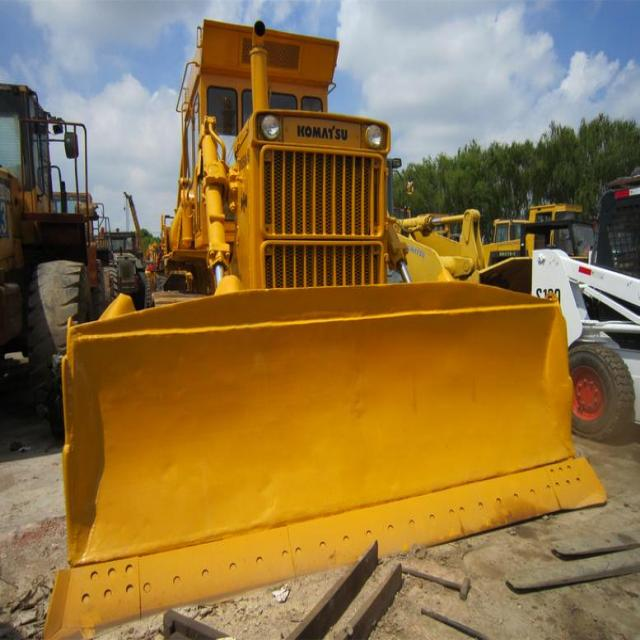Bulldozer: (16, 7, 615, 637)
